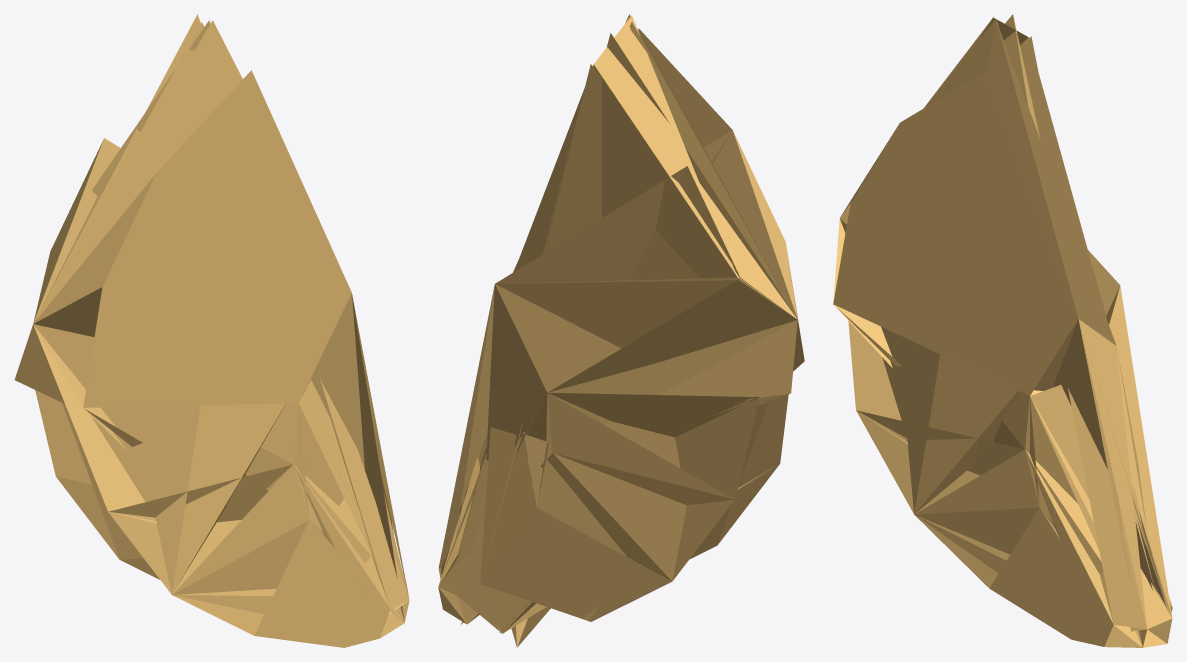
Rendered from S.S._Dolphin_Omega_Stablizer.obj.
The picture shows the model from 3 angles, left to right: view 1: azimuth 30°, elevation 25°; view 2: azimuth 150°, elevation 25°; view 3: azimuth 330°, elevation 25°; orthographic projection. The views are drawn at different scales.
Visible parts, largest first — view 1: S.S._Dolphin_Omega_Stablizer; view 2: S.S._Dolphin_Omega_Stablizer; view 3: S.S._Dolphin_Omega_Stablizer.
Boxes of the visible parts, <box> form: S.S._Dolphin_Omega_Stablizer: <box>14,14,409,647</box>; S.S._Dolphin_Omega_Stablizer: <box>438,14,804,647</box>; S.S._Dolphin_Omega_Stablizer: <box>833,14,1172,647</box>.
Size of the model in its own units: 2.32 by 3.88 by 0.5383.
